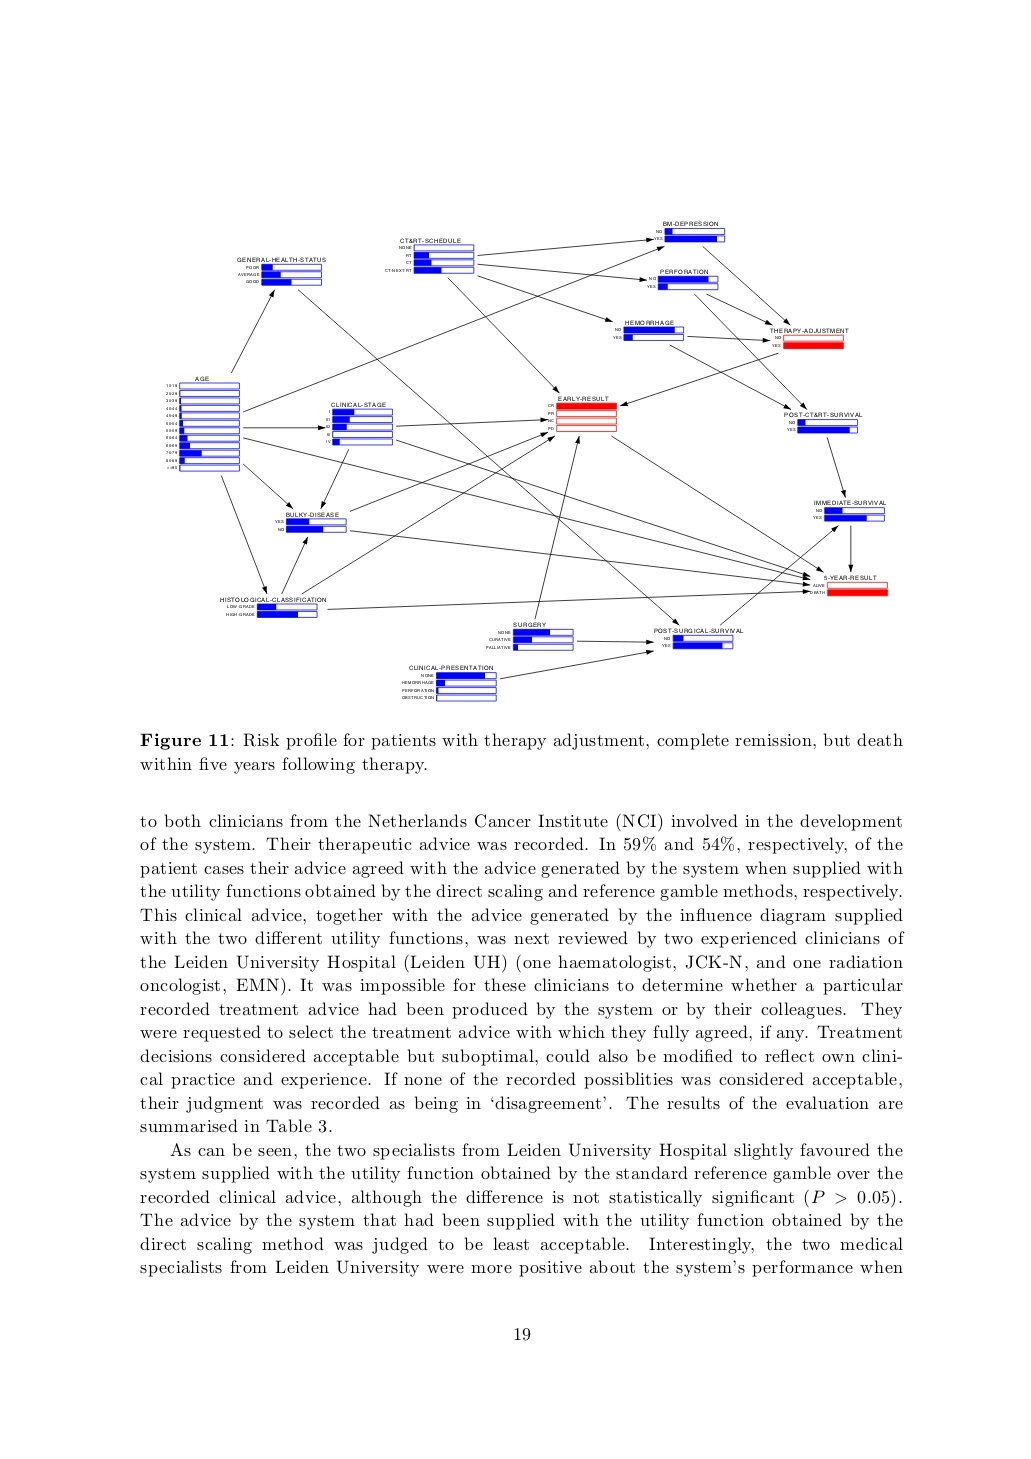figure: (166, 220, 888, 702)
